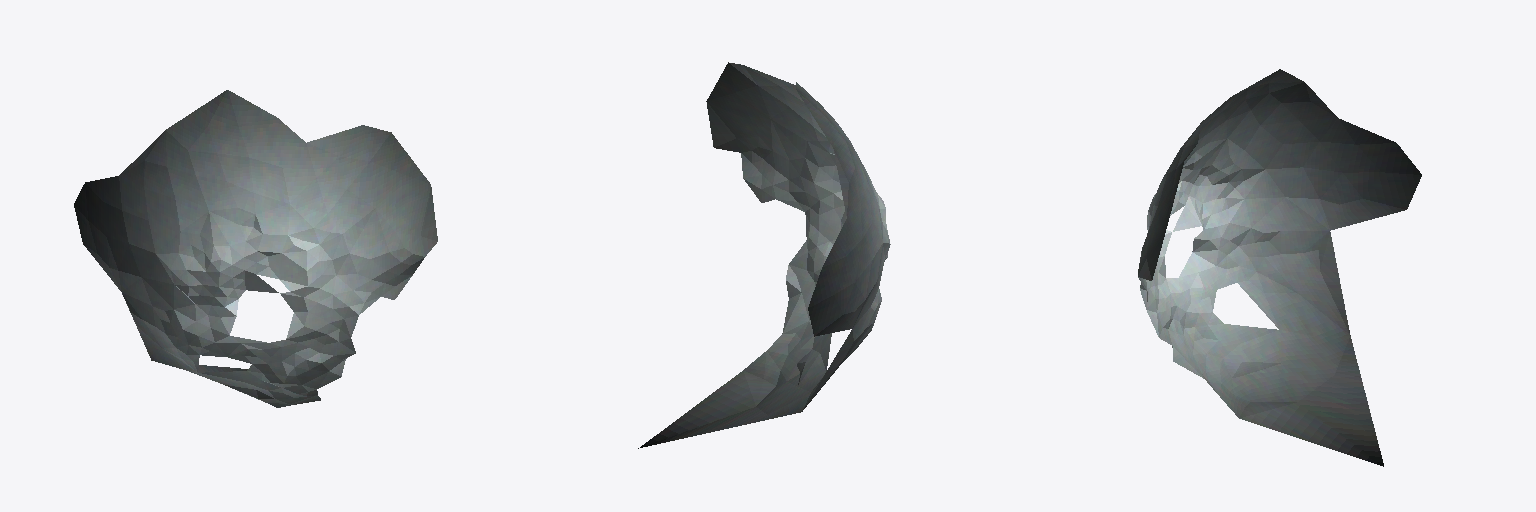
The picture shows the model from 3 angles: view 1: azimuth 30°, elevation 25°; view 2: azimuth 150°, elevation 25°; view 3: azimuth 270°, elevation 25°; orthographic projection.
Bounding box in the file's own units: 52.18 × 72.95 × 54.34.
Materials: 1 (1 with a texture image).